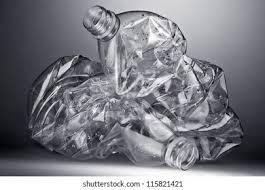plastic: (29, 6, 240, 163)
